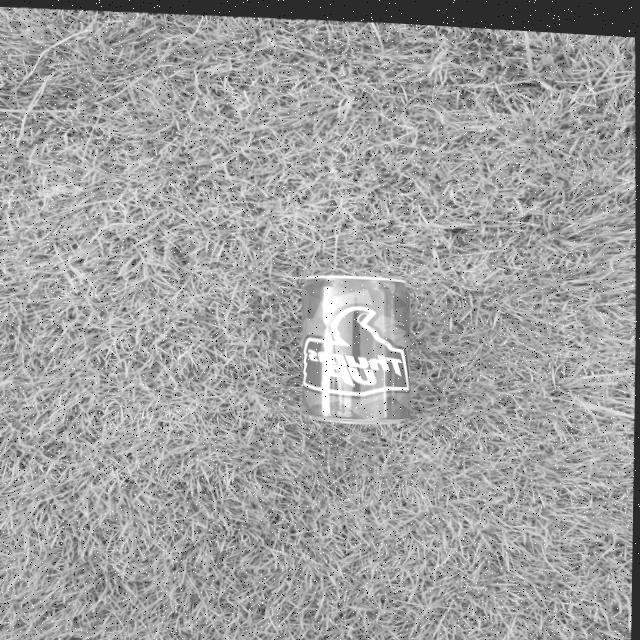Thums Up: (287, 266, 420, 424)
